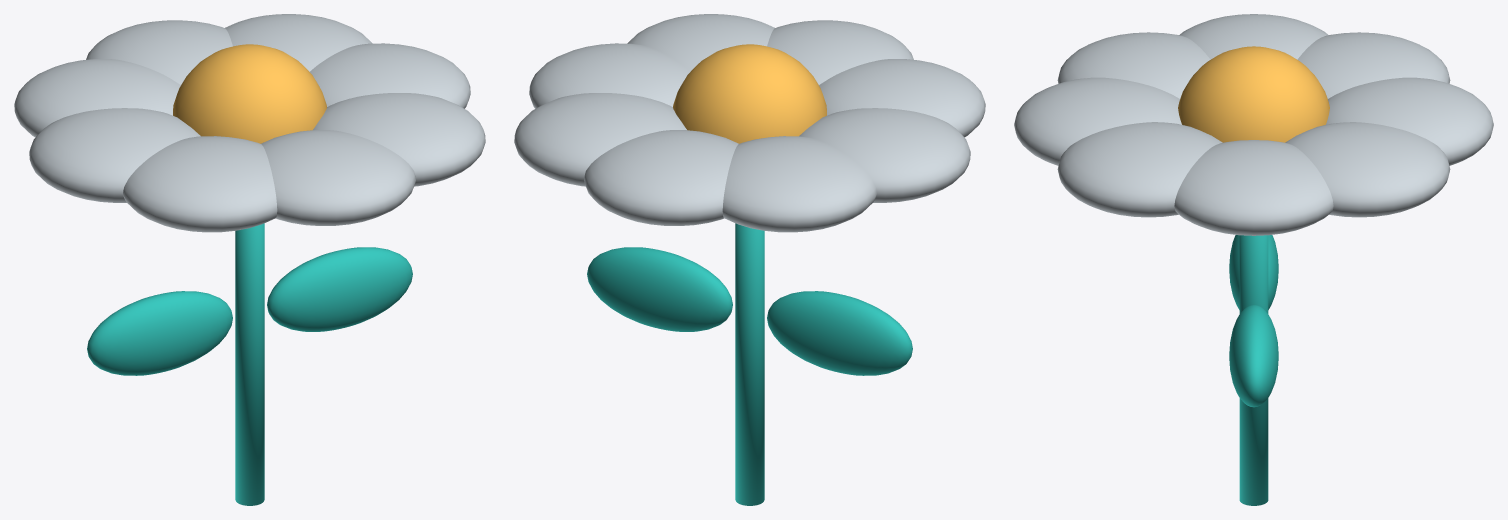
File: flower-quality.glb
The picture shows the model from 3 angles, left to right: view 1: azimuth 30°, elevation 25°; view 2: azimuth 150°, elevation 25°; view 3: azimuth 270°, elevation 25°; orthographic projection.
Visible parts, largest first — view 1: Stem; view 2: Stem; view 3: Stem.
Part boxes in pixels (x1=…): Stem: x1=14, y1=14, x2=485, y2=505; Stem: x1=514, y1=14, x2=985, y2=505; Stem: x1=1014, y1=14, x2=1493, y2=505.
Bounding box in the file's own units: 1.16 × 1.19 × 1.16.
